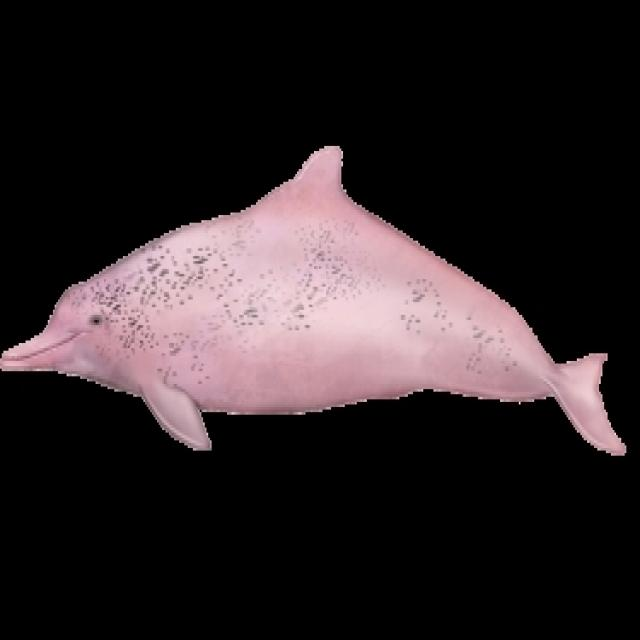penguin: (0, 146, 623, 453)
